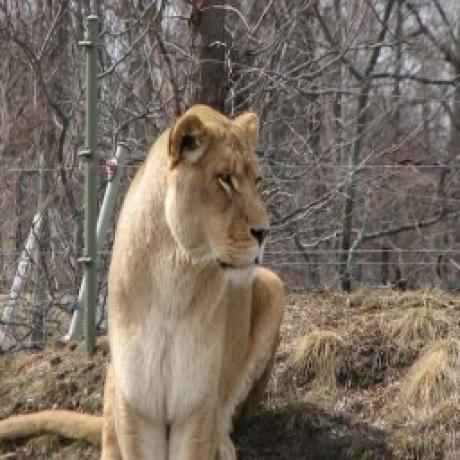Lion: (99, 99, 291, 460)
